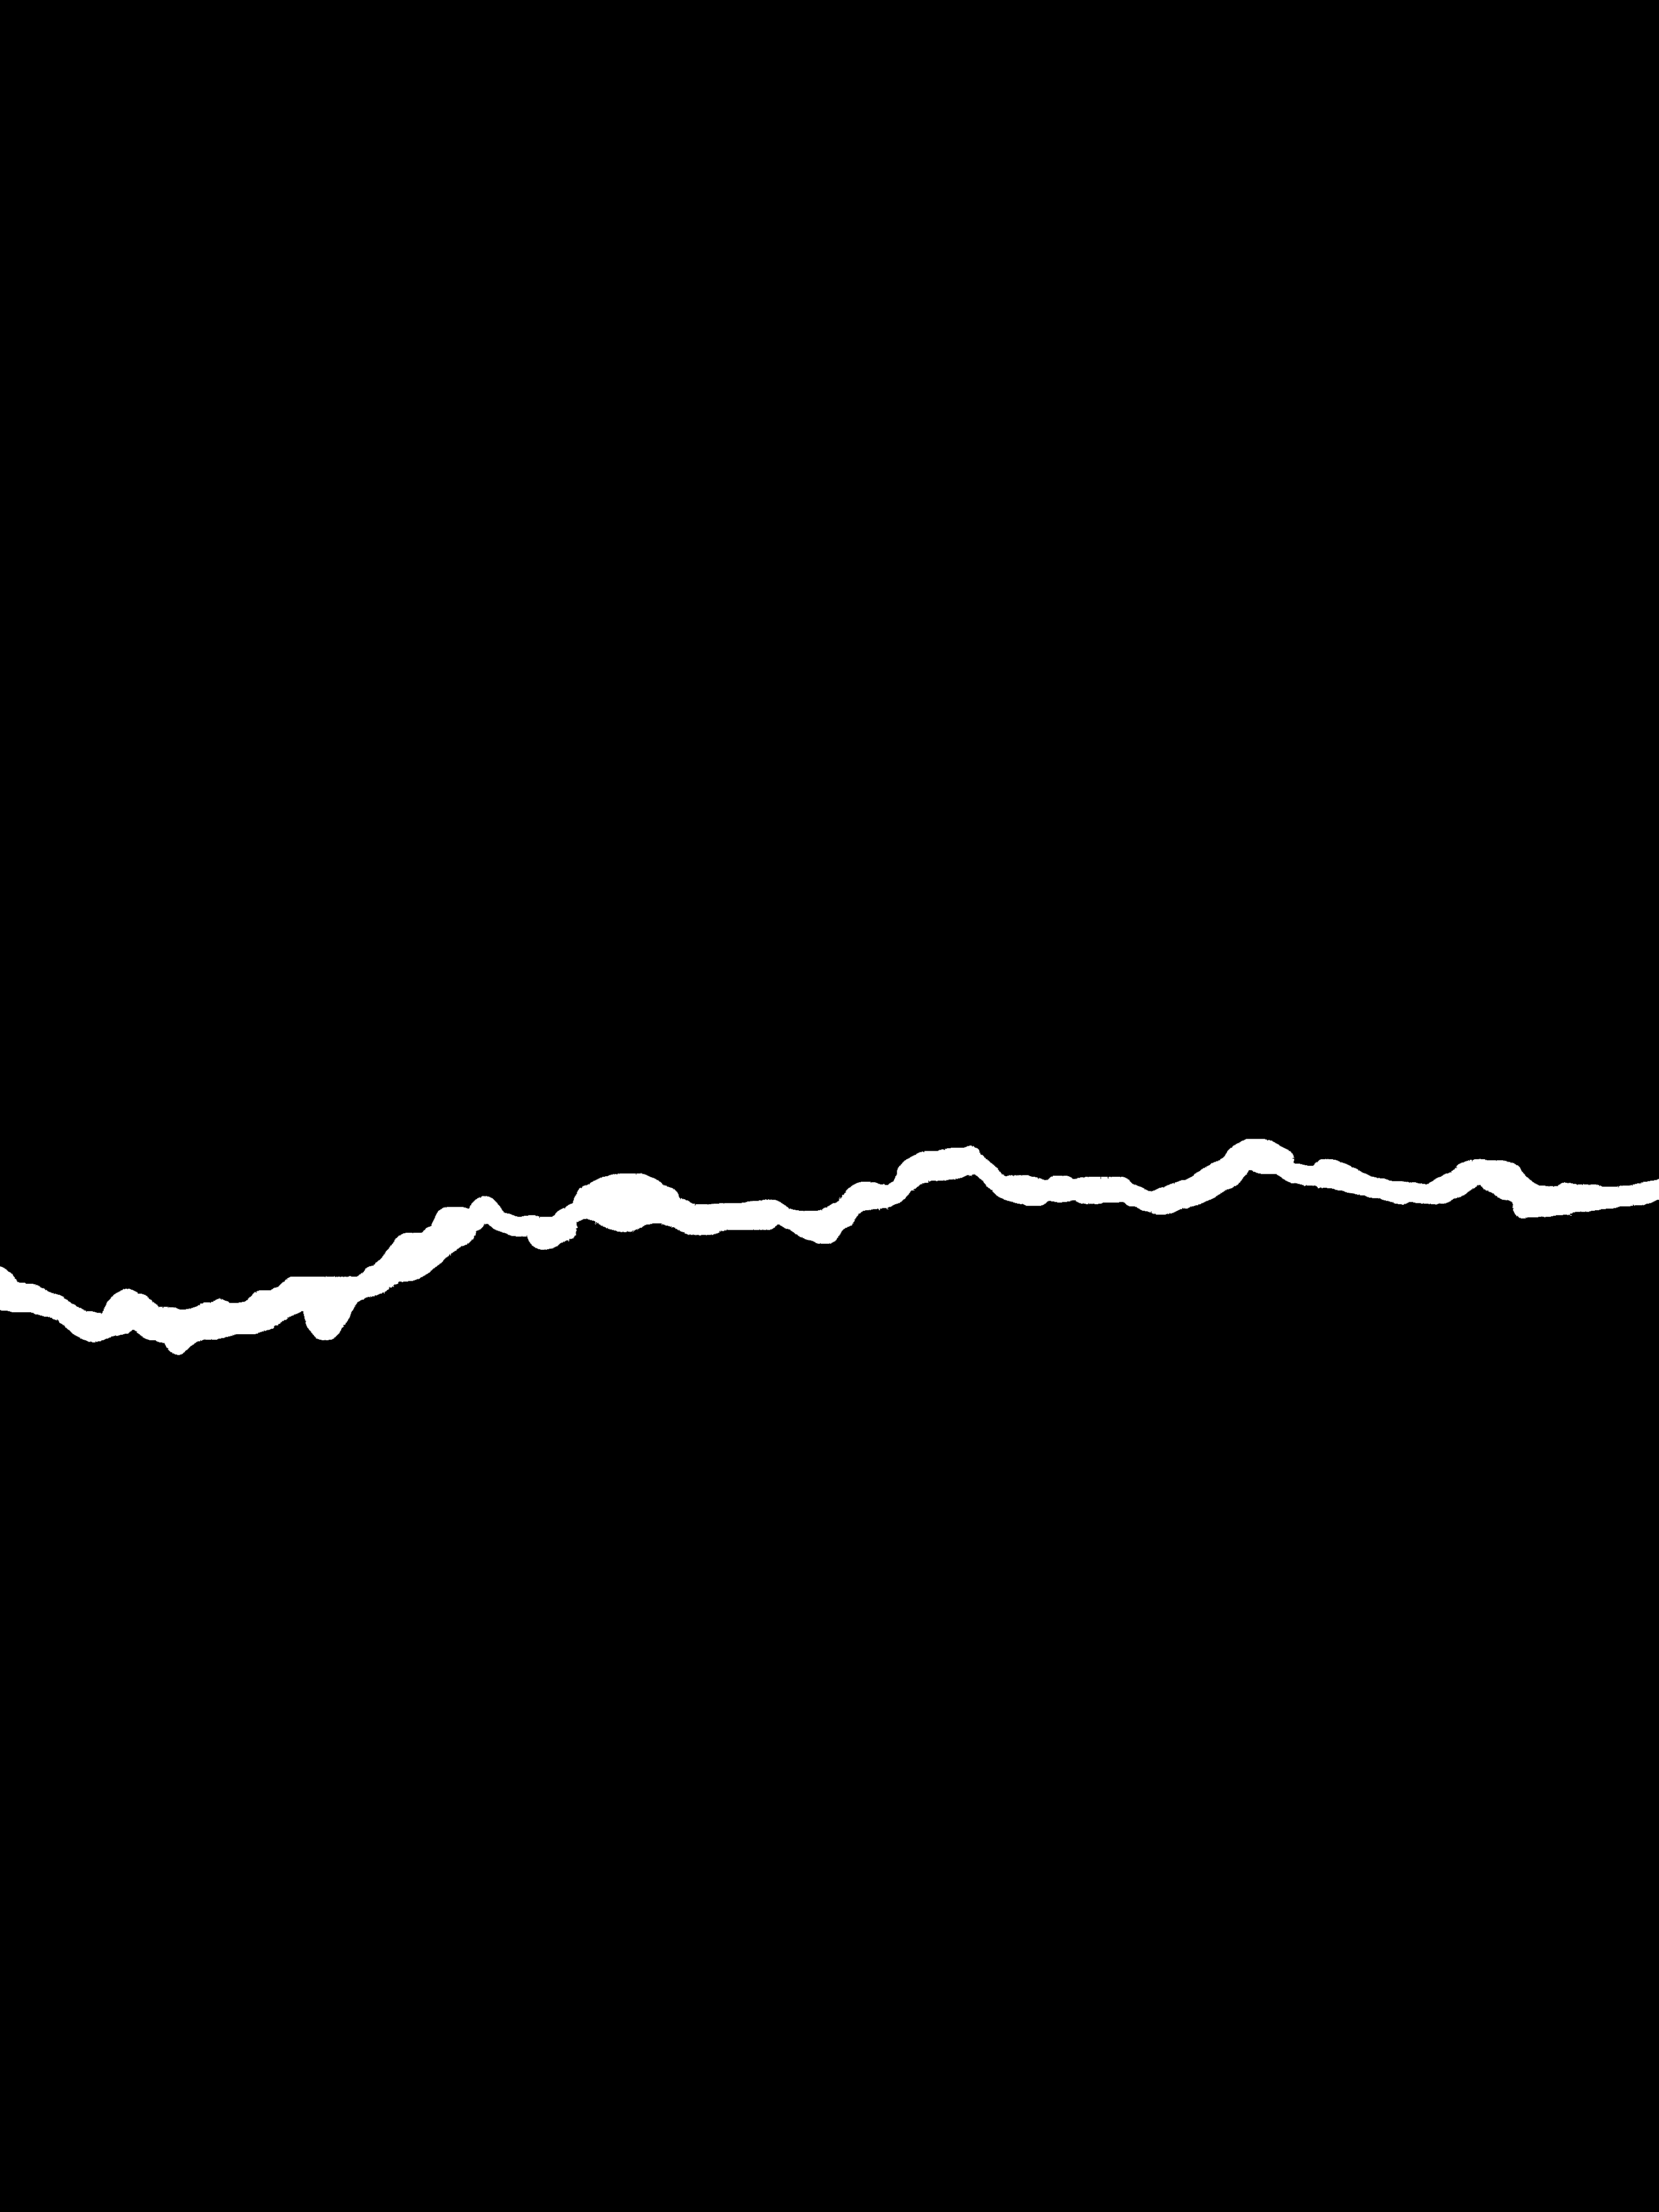Crack: (0, 1122, 1659, 1374)
